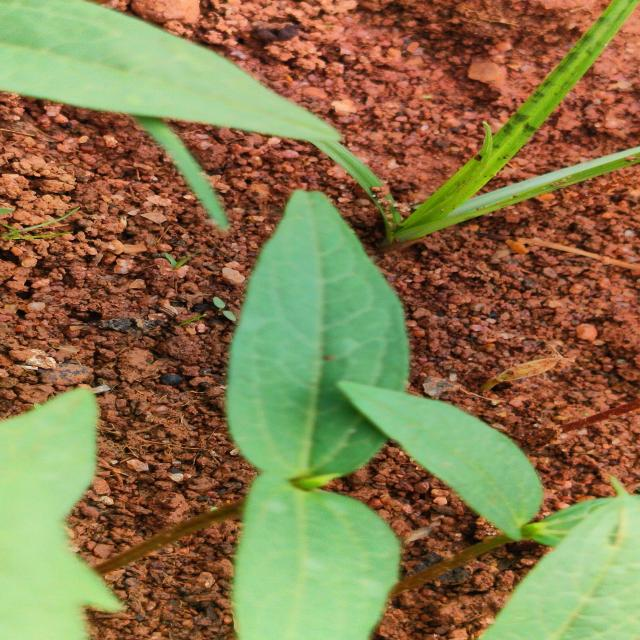Black gram_healthy: (222, 189, 410, 479), (311, 372, 534, 550)
